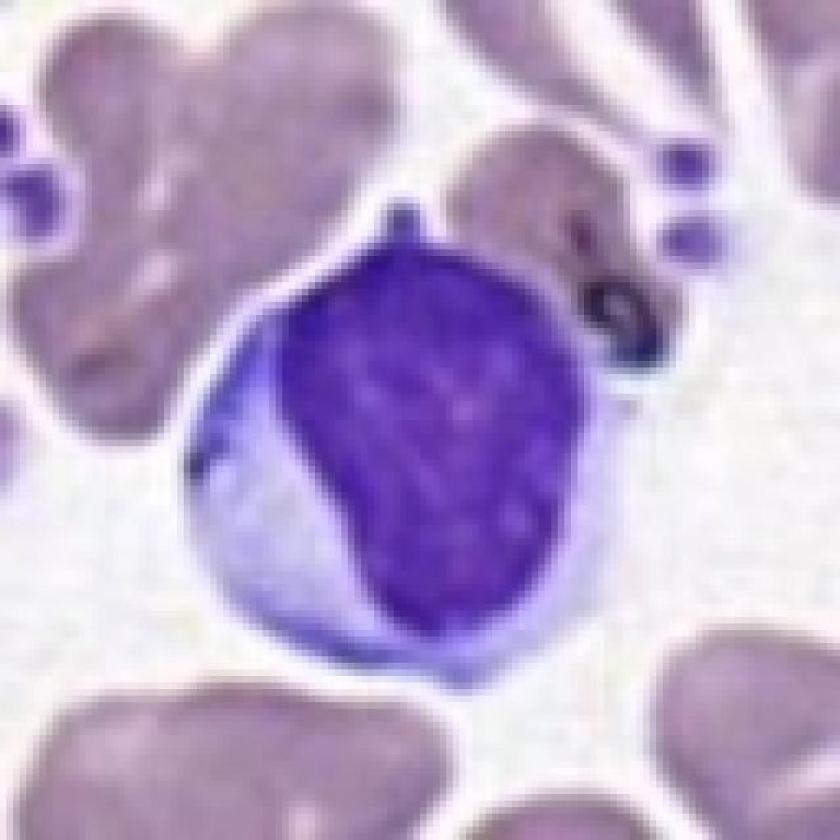lymphocyte: (171, 198, 642, 699)
